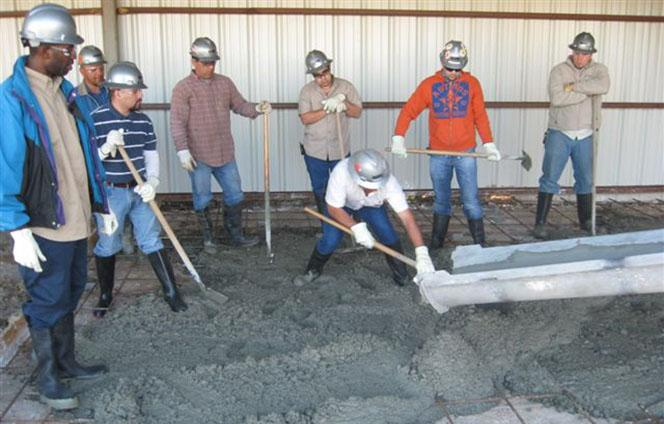helmet: (20, 5, 85, 47), (350, 149, 391, 188), (101, 59, 149, 90), (440, 40, 470, 71), (189, 36, 222, 64), (303, 50, 332, 74), (77, 45, 106, 67), (572, 32, 598, 55)
